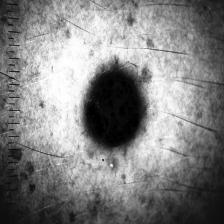Benign Marking or Mole: (86, 72, 139, 146)
